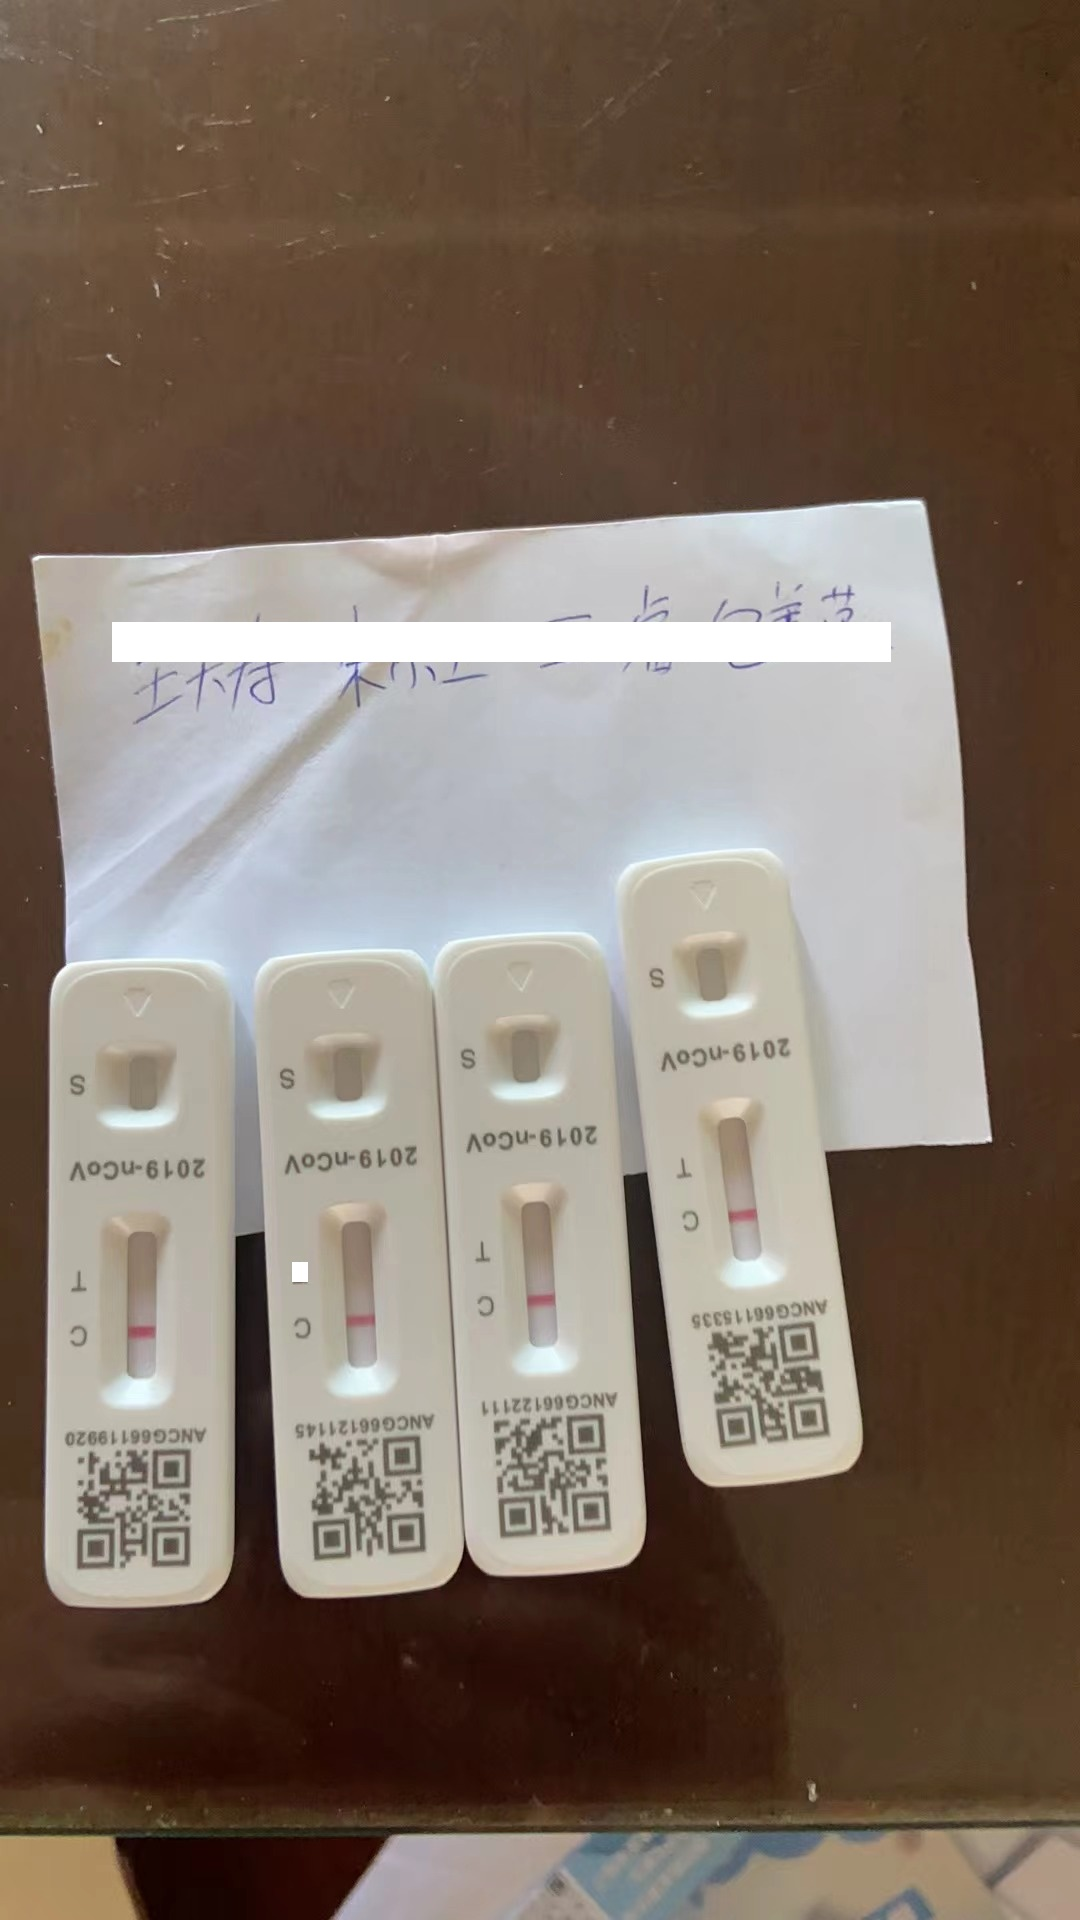negative: (320, 1197, 396, 1400), (98, 1215, 178, 1403), (700, 1095, 781, 1282), (502, 1178, 574, 1373)
